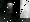person: (21, 1, 30, 19), (8, 5, 14, 13)
